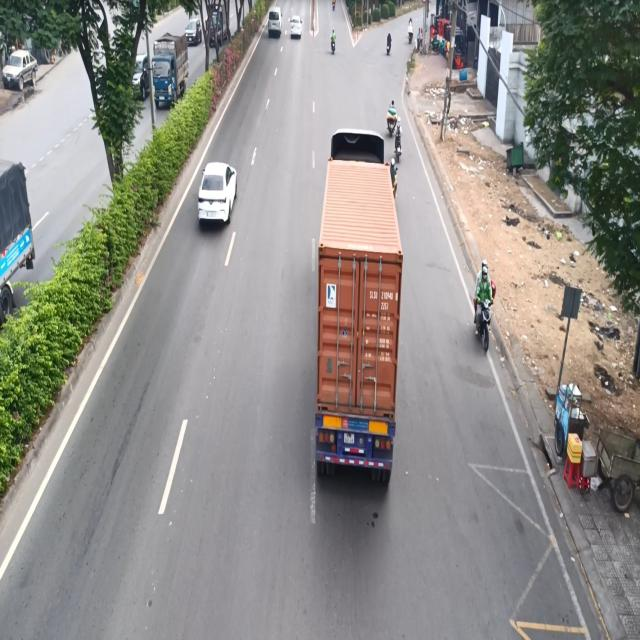car: (198, 154, 239, 230), (266, 0, 282, 46), (290, 7, 304, 44)
motor: (471, 256, 500, 350), (387, 98, 398, 140)
truck: (312, 126, 398, 517)
